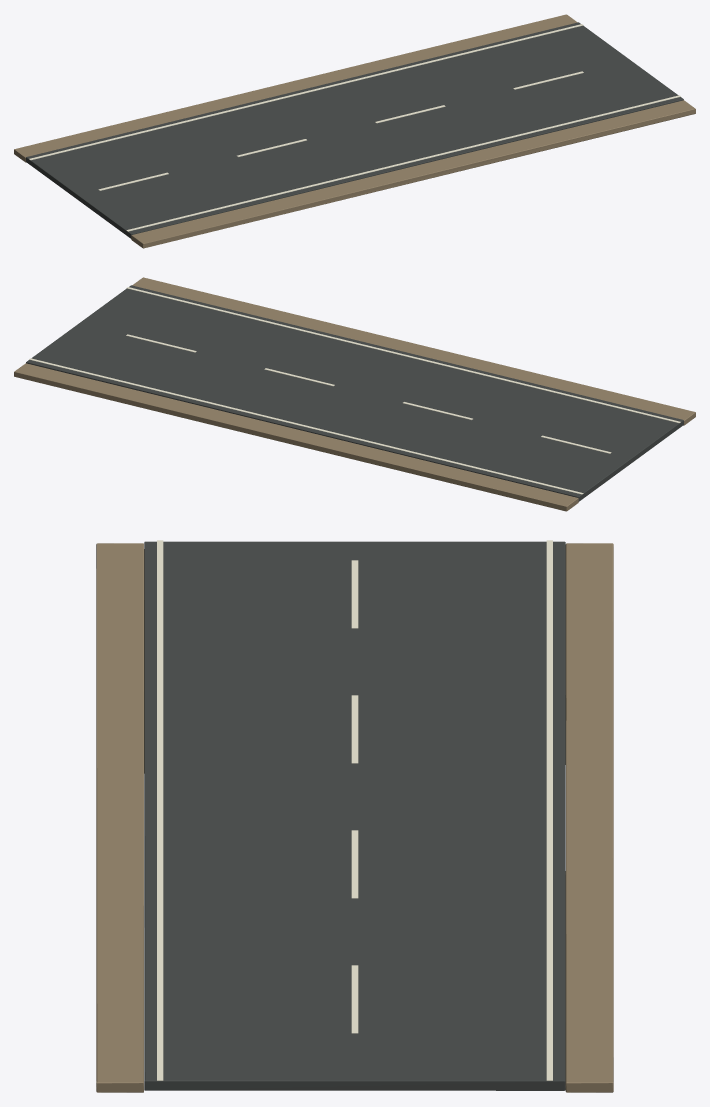
The model's file is RoadSegment.glb.
3 renders of one model, top to bottom at view 1: azimuth 30°, elevation 25°; view 2: azimuth 150°, elevation 25°; view 3: azimuth 270°, elevation 25°, orthographic. The views are drawn at different scales.
Parts seen in each view (by area): view 1: RoadSegment_Road_Asphalt, RoadSegment_Road_Shoulder_Gravel, RoadSegment_Road_OffWhite_Marking; view 2: RoadSegment_Road_Asphalt, RoadSegment_Road_Shoulder_Gravel, RoadSegment_Road_OffWhite_Marking; view 3: RoadSegment_Road_Asphalt, RoadSegment_Road_Shoulder_Gravel, RoadSegment_Road_OffWhite_Marking.
Part boxes in pixels (<box>): RoadSegment_Road_Asphalt: <box>26,22,683,238</box>; RoadSegment_Road_Shoulder_Gravel: <box>14,14,695,248</box>; RoadSegment_Road_OffWhite_Marking: <box>29,24,680,231</box>; RoadSegment_Road_Asphalt: <box>26,285,683,501</box>; RoadSegment_Road_Shoulder_Gravel: <box>14,277,695,511</box>; RoadSegment_Road_OffWhite_Marking: <box>29,287,680,494</box>; RoadSegment_Road_Asphalt: <box>144,541,565,1090</box>; RoadSegment_Road_Shoulder_Gravel: <box>96,543,613,1092</box>; RoadSegment_Road_OffWhite_Marking: <box>157,540,552,1080</box>.
Size of the model in its own units: 20 by 0.225 by 8.1.
